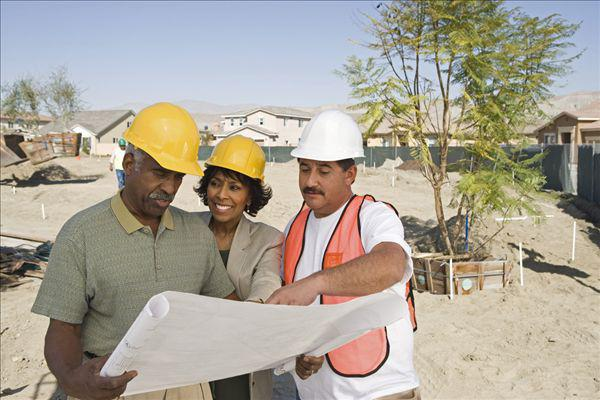helmet: (124, 98, 220, 218), (288, 107, 375, 212), (193, 124, 277, 228)
